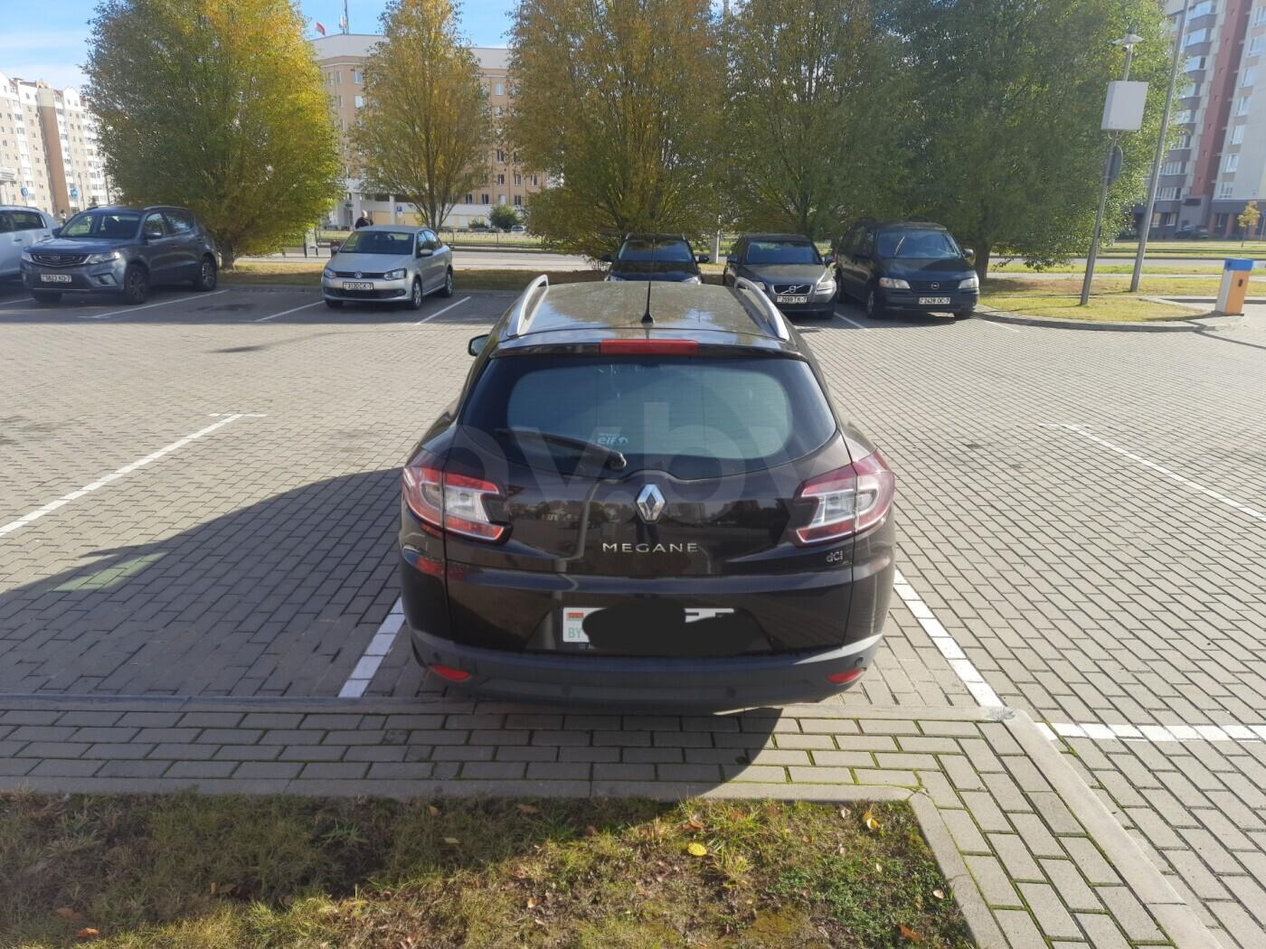Megane_2014-2016: (400, 275, 893, 701)
